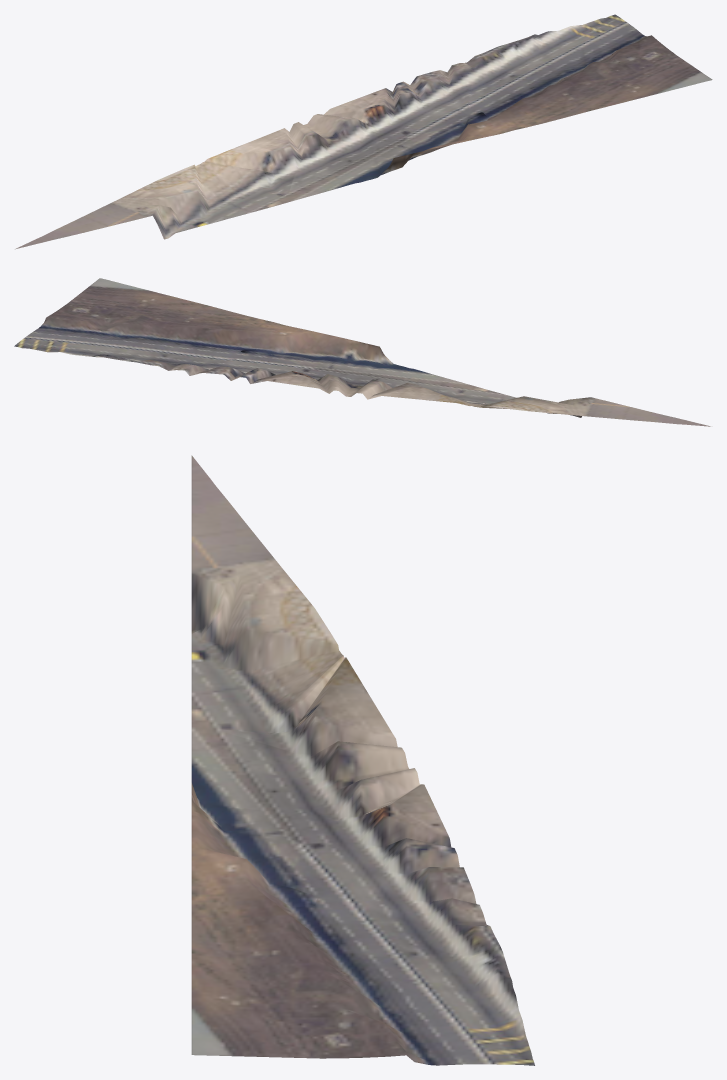
The model's file is terrain_14.glb.
3 views of the same model, one above another, from view 1: azimuth 30°, elevation 25°; view 2: azimuth 150°, elevation 25°; view 3: azimuth 270°, elevation 25° (orthographic). The views are drawn at different scales.
Visible parts, largest first — view 1: T09000186000106E11.001; view 2: T09000186000106E11.001; view 3: T09000186000106E11.001.
Part boxes in pixels (x1=…): T09000186000106E11.001: x1=15, y1=14, x2=712, y2=249; T09000186000106E11.001: x1=14, y1=278, x2=710, y2=426; T09000186000106E11.001: x1=191, y1=455, x2=534, y2=1065.
Size of the model in its own units: 224 by 8.26 by 54.3.
1 material, 1 textured.
